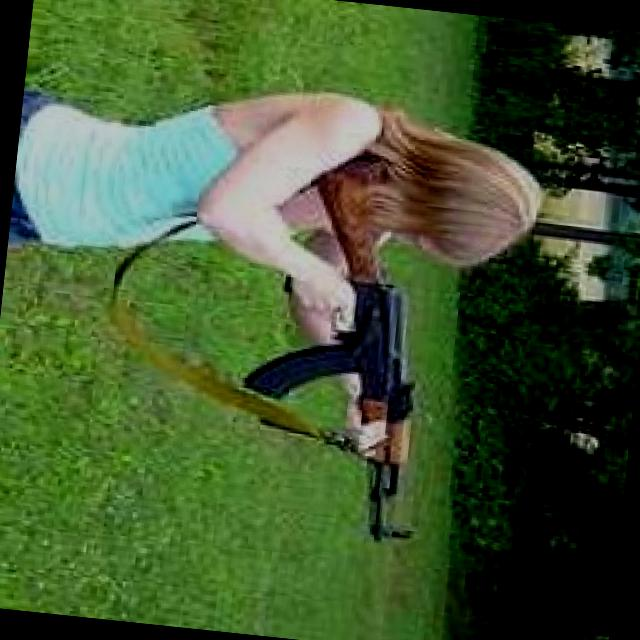long weapon: (246, 254, 456, 564)
